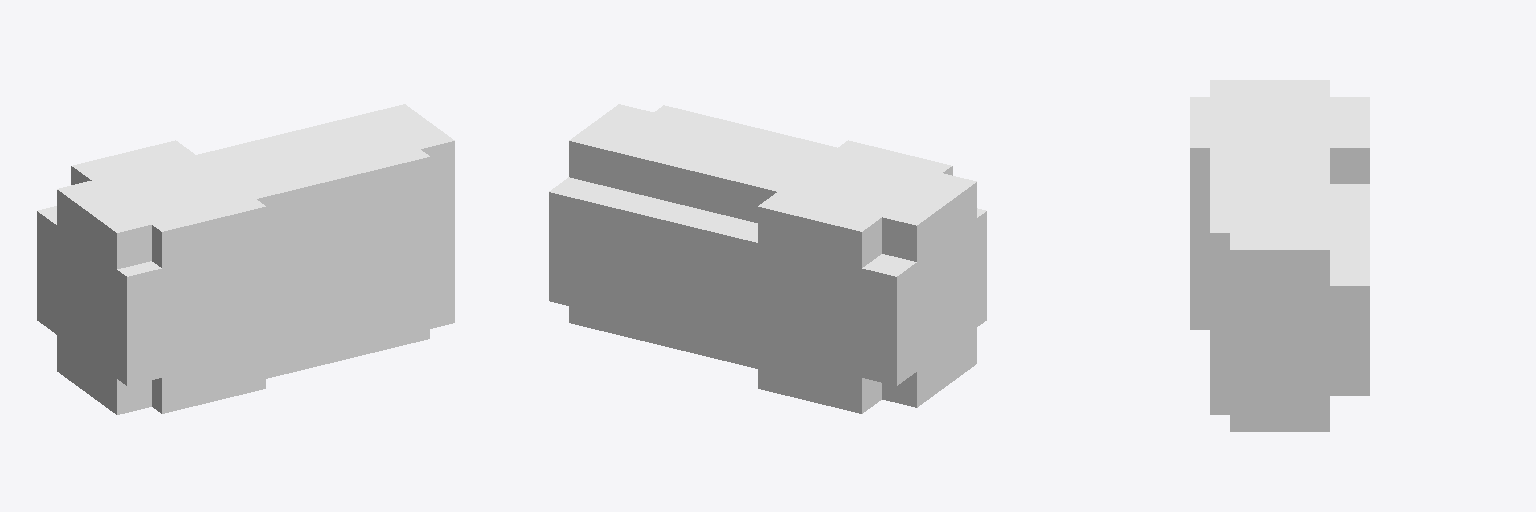
The model's file is enemy-9.obj.
3 renders of one model, left to right at view 1: azimuth 30°, elevation 25°; view 2: azimuth 150°, elevation 25°; view 3: azimuth 270°, elevation 25°, orthographic.
Parts seen in each view (by area): view 1: object 1; view 2: object 1; view 3: object 1.
Boxes of the visible parts, x1,y1,x2,y2 form: object 1: [37, 104, 454, 414]; object 1: [549, 104, 986, 413]; object 1: [1190, 80, 1369, 431].
Bounding box in the file's own units: 2 × 1 × 0.9.